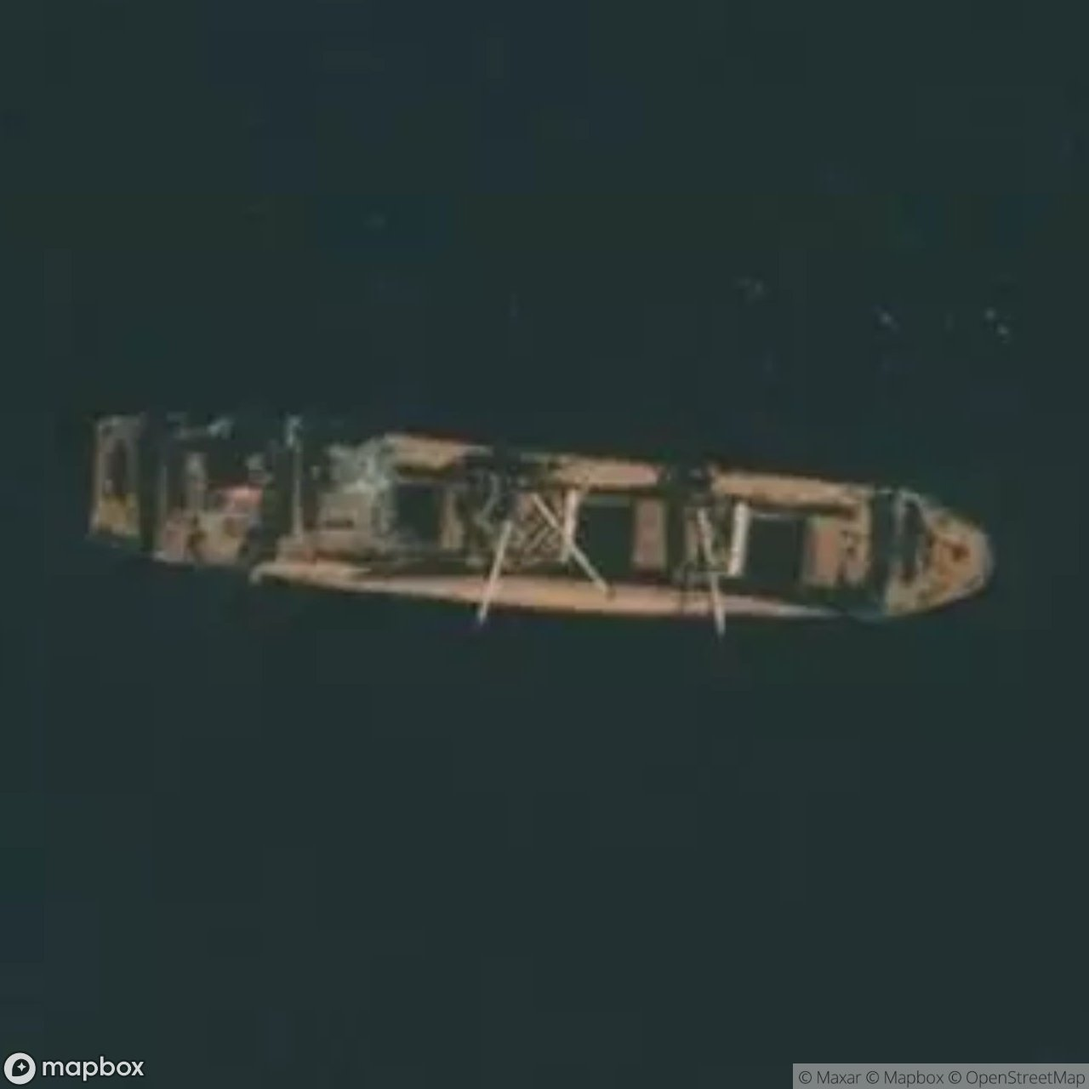Wreck: (44, 377, 1024, 662)
